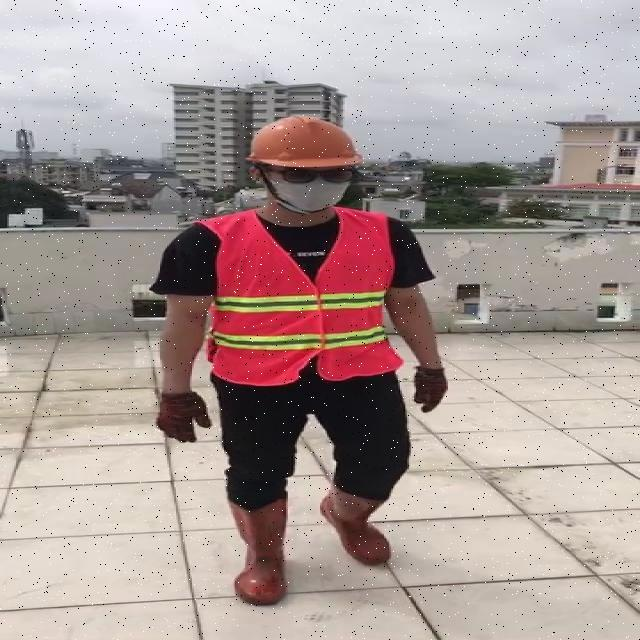Hard_hat: (238, 113, 366, 180)
Person: (144, 108, 459, 636)
Vest: (208, 207, 395, 390)
